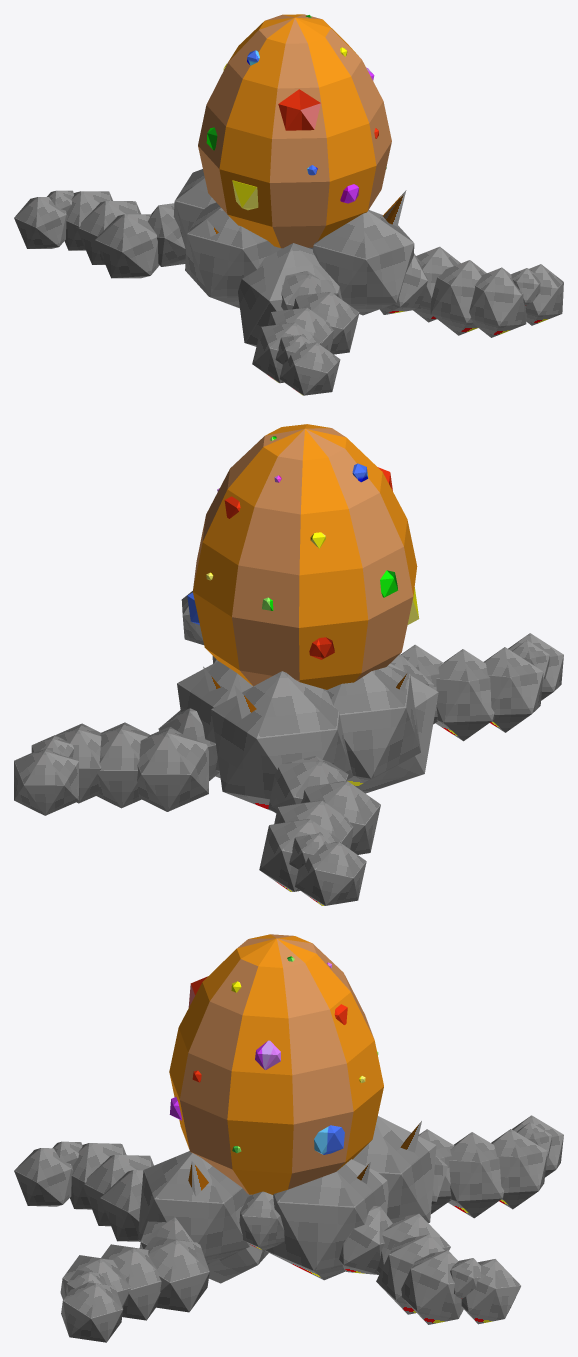
File: eggB2.obj
3 renders of one model, top to bottom at view 1: azimuth 30°, elevation 25°; view 2: azimuth 150°, elevation 25°; view 3: azimuth 270°, elevation 25°, orthographic. The views are drawn at different scales.
Parts seen in each view (by area): view 1: rocks_crystal_1_Icosphere.062_crystal_1_Icosphere.002, egg_Cylinder.002_Cylinder.003, crystals_crystal_1_Icosphere.062_crystal_1_Icosphere.003; view 2: rocks_crystal_1_Icosphere.062_crystal_1_Icosphere.002, egg_Cylinder.002_Cylinder.003, crystals_crystal_1_Icosphere.062_crystal_1_Icosphere.003, spikes_crystal_1_Icosphere.062_crystal_1_Icosphere.003; view 3: rocks_crystal_1_Icosphere.062_crystal_1_Icosphere.002, egg_Cylinder.002_Cylinder.003, crystals_crystal_1_Icosphere.062_crystal_1_Icosphere.003, spikes_crystal_1_Icosphere.062_crystal_1_Icosphere.003.
Boxes of the visible parts, box(x1,y1,x2,y2) form: rocks_crystal_1_Icosphere.062_crystal_1_Icosphere.002: box(14, 169, 563, 395); egg_Cylinder.002_Cylinder.003: box(198, 14, 391, 248); crystals_crystal_1_Icosphere.062_crystal_1_Icosphere.003: box(206, 15, 386, 210); rocks_crystal_1_Icosphere.062_crystal_1_Icosphere.002: box(14, 591, 563, 905); egg_Cylinder.002_Cylinder.003: box(193, 424, 417, 689); crystals_crystal_1_Icosphere.062_crystal_1_Icosphere.003: box(187, 436, 419, 659); spikes_crystal_1_Icosphere.062_crystal_1_Icosphere.003: box(203, 666, 408, 718); rocks_crystal_1_Icosphere.062_crystal_1_Icosphere.002: box(14, 1115, 563, 1342); egg_Cylinder.002_Cylinder.003: box(169, 934, 383, 1194); crystals_crystal_1_Icosphere.062_crystal_1_Icosphere.003: box(169, 956, 378, 1154); spikes_crystal_1_Icosphere.062_crystal_1_Icosphere.003: box(188, 1121, 421, 1196).
Size of the model in its own units: 128 by 112 by 157.
4 materials, 4 textured.
